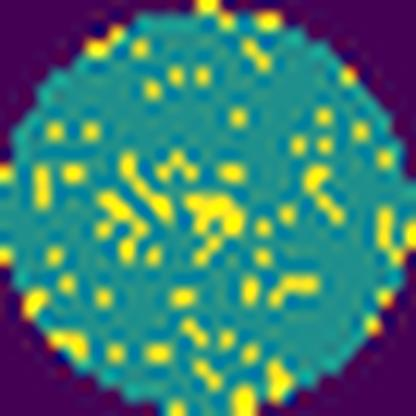Center: (184, 187, 245, 272)
